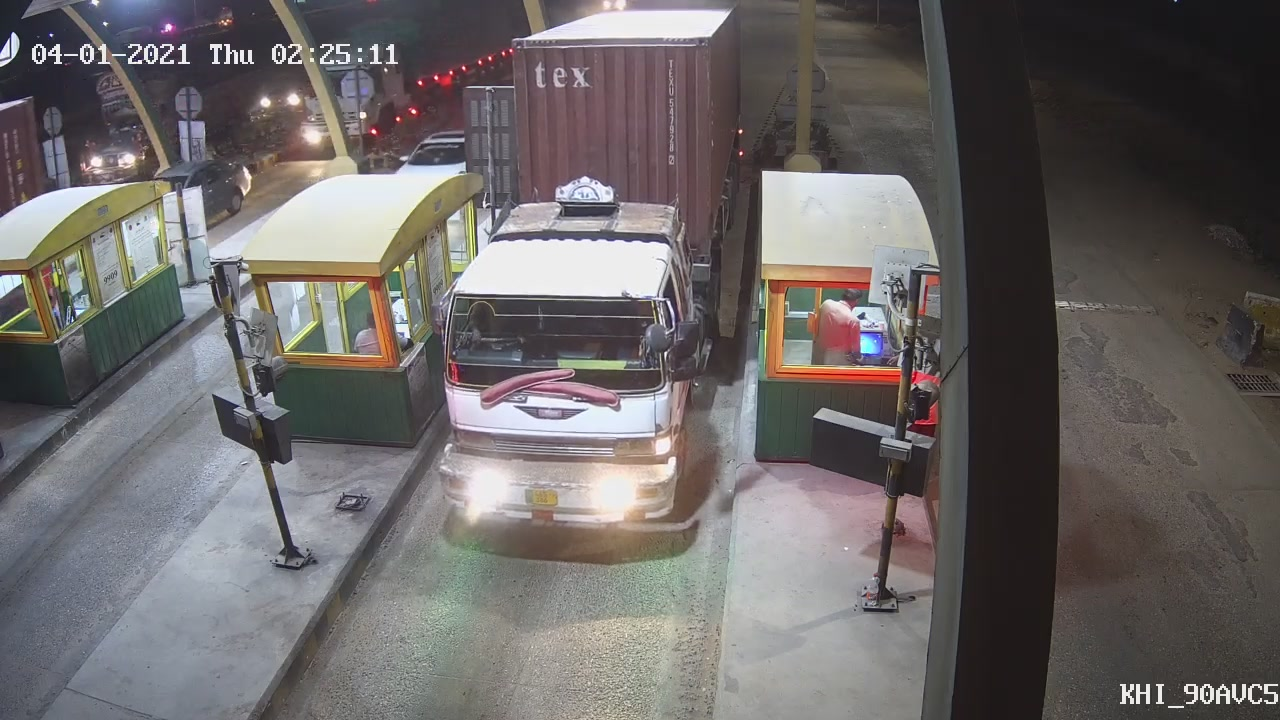F5: (426, 9, 738, 554)
